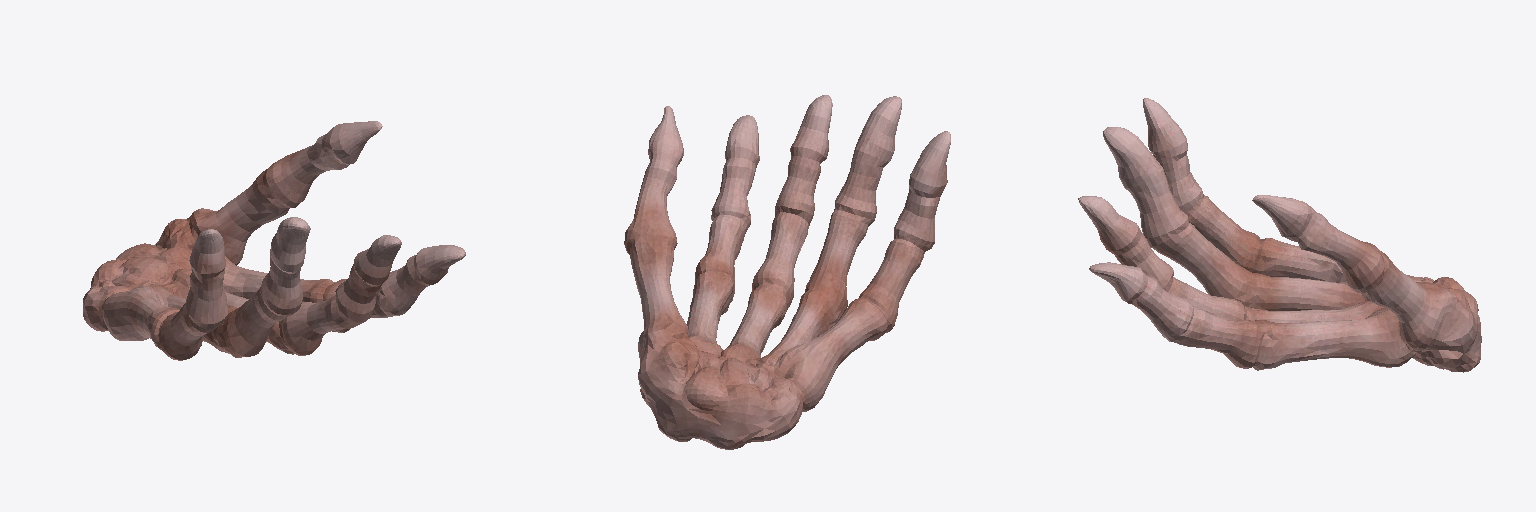
The picture shows the model from 3 angles: view 1: azimuth 30°, elevation 25°; view 2: azimuth 150°, elevation 25°; view 3: azimuth 270°, elevation 25°; orthographic projection.
Parts seen in each view (by area): view 1: left_hand; view 2: left_hand; view 3: left_hand.
Boxes of the visible parts, x1=… form: left_hand: x1=83, y1=121, x2=465, y2=360; left_hand: x1=624, y1=95, x2=950, y2=449; left_hand: x1=1078, y1=98, x2=1481, y2=372.
Size of the model in its own units: 0.801 by 0.7378 by 1.17.
Materials: 1 (1 with a texture image).